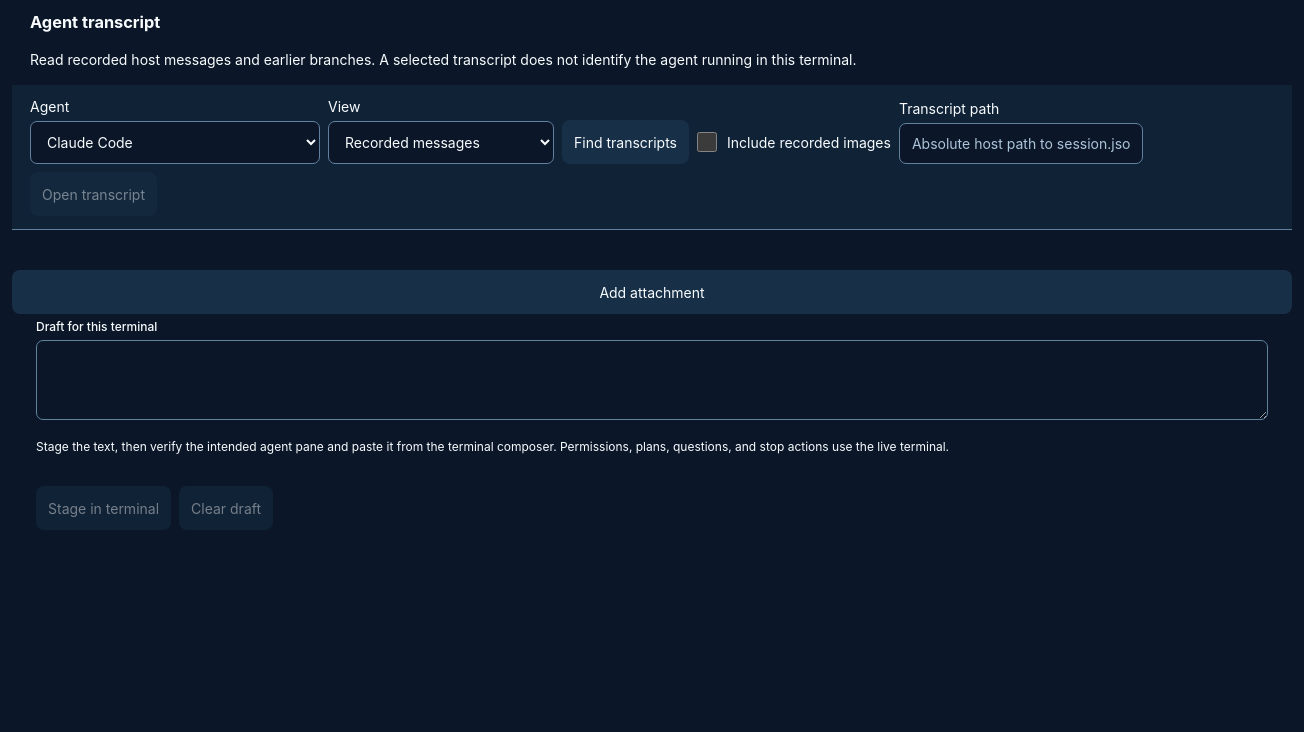
Test case: validates Claude boolean tool errors and renders recorded failures without changing output
Type "/host/claude.jsonl" into the field labelled "Transcript path" at (1021, 144), box [899,124,1143,164]
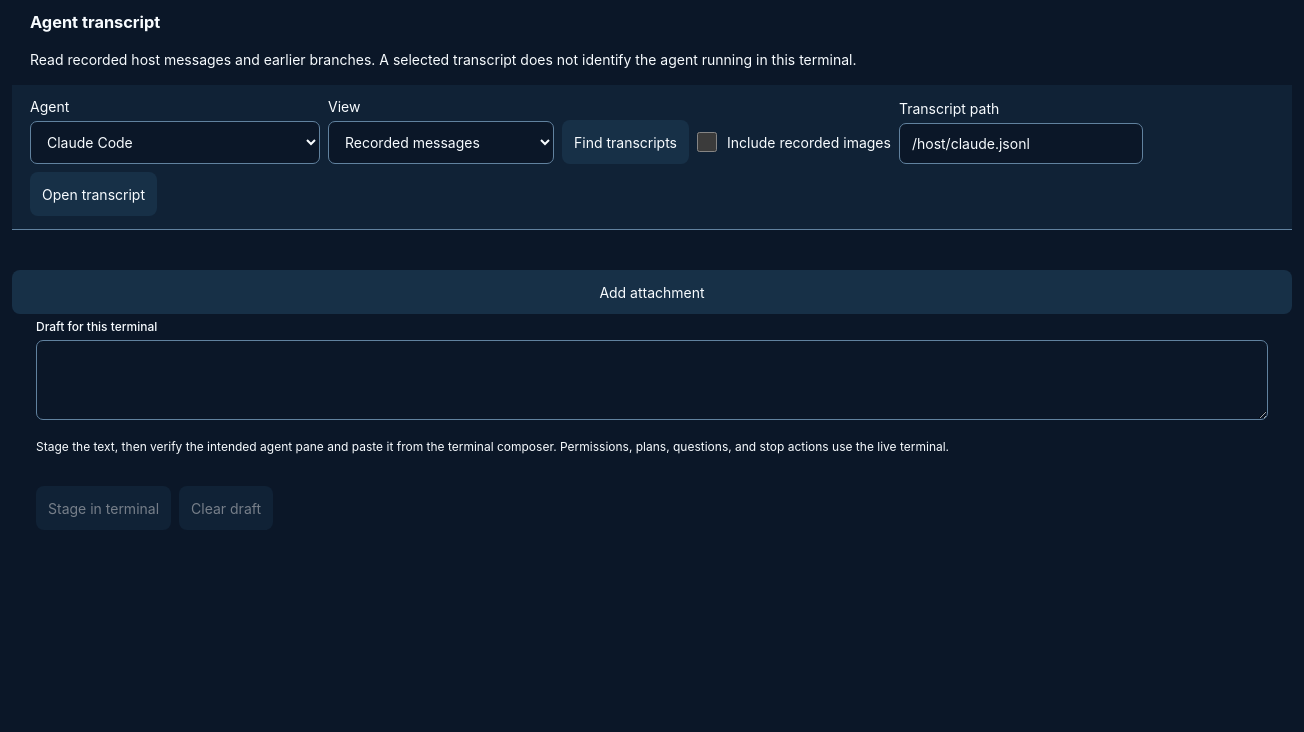
Click the button "Open transcript" at (94, 194), box [30,172,157,216]
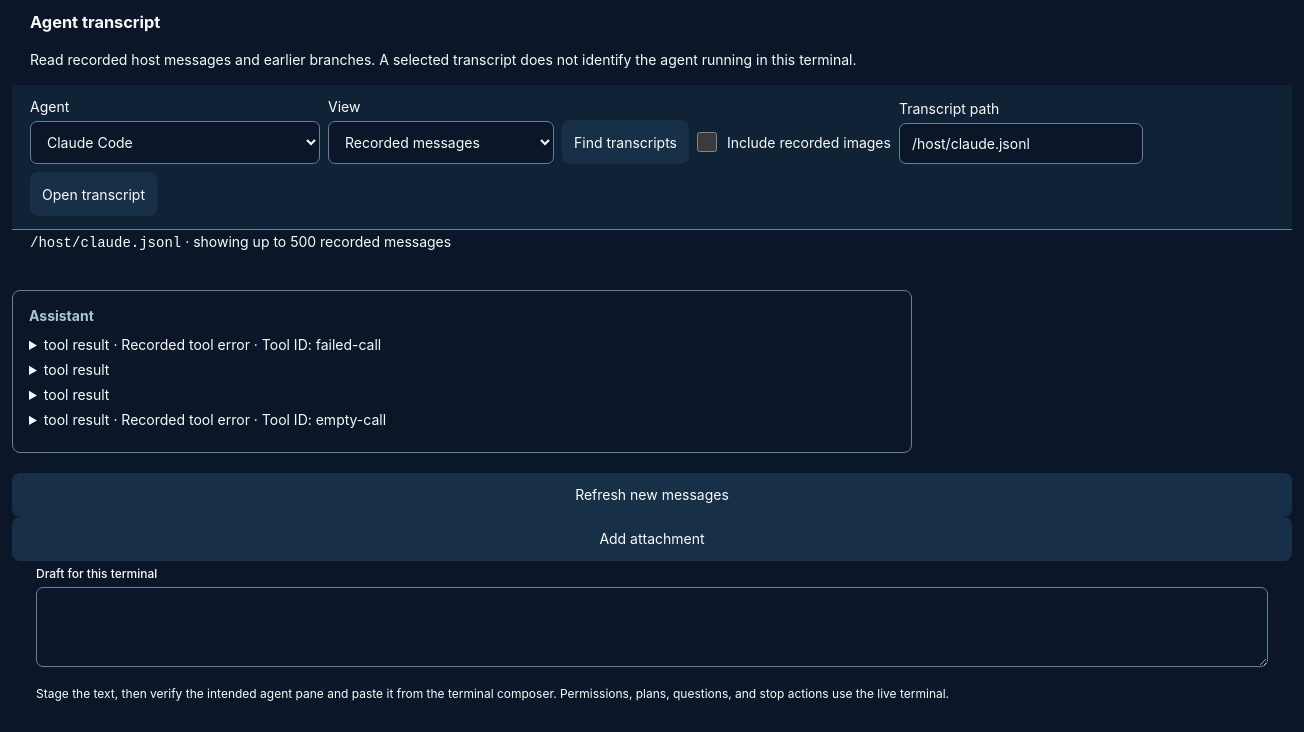
Expected: the heading "tool result · Recorded tool error · Tool ID: failed-call" is shown, [44,336,381,353]
Expected: the heading "tool result · Recorded tool error · Tool ID: empty-call" is shown, [44,411,386,428]
Expected: the number of headings "tool result · Recorded tool error · Tool ID: failed-call" is 2, [44,336,381,353]; [44,411,386,428]
